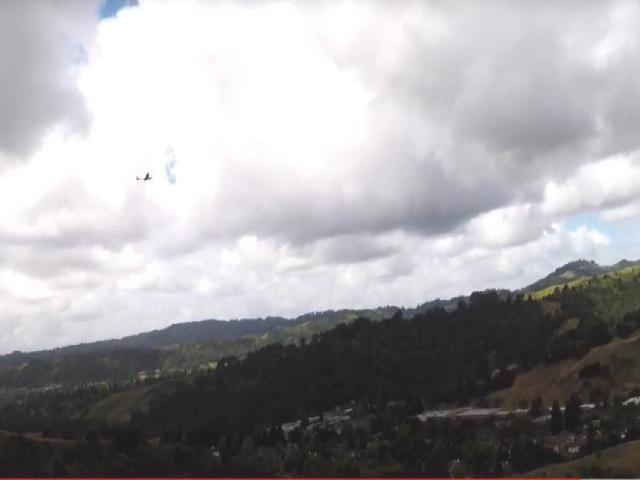iha: (136, 170, 154, 186)
